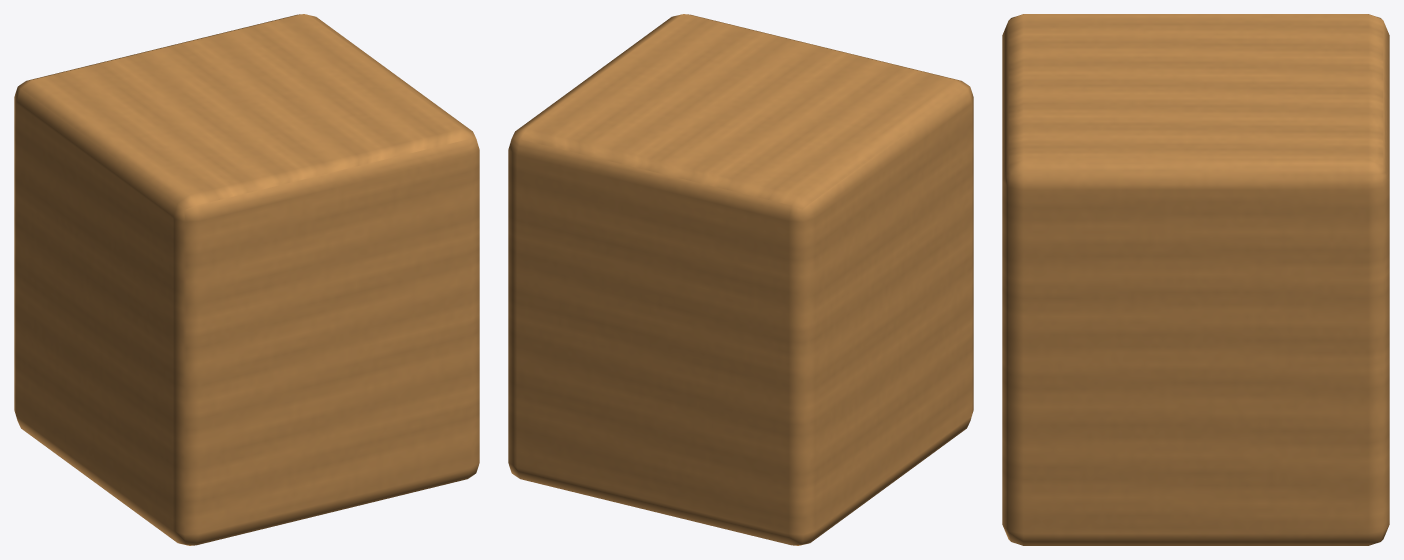
File: wall_beech_1m.glb
3 renders of one model, left to right at view 1: azimuth 30°, elevation 25°; view 2: azimuth 150°, elevation 25°; view 3: azimuth 270°, elevation 25°, orthographic. The views are drawn at different scales.
Parts seen in each view (by area): view 1: Block; view 2: Block; view 3: Block.
Boxes of the visible parts, x1,y1,x2,y2 form: Block: [14, 14, 479, 545]; Block: [508, 14, 973, 545]; Block: [1002, 14, 1389, 545].
Size of the model in its own units: 1 by 1.1 by 1.
1 material, 1 textured.
